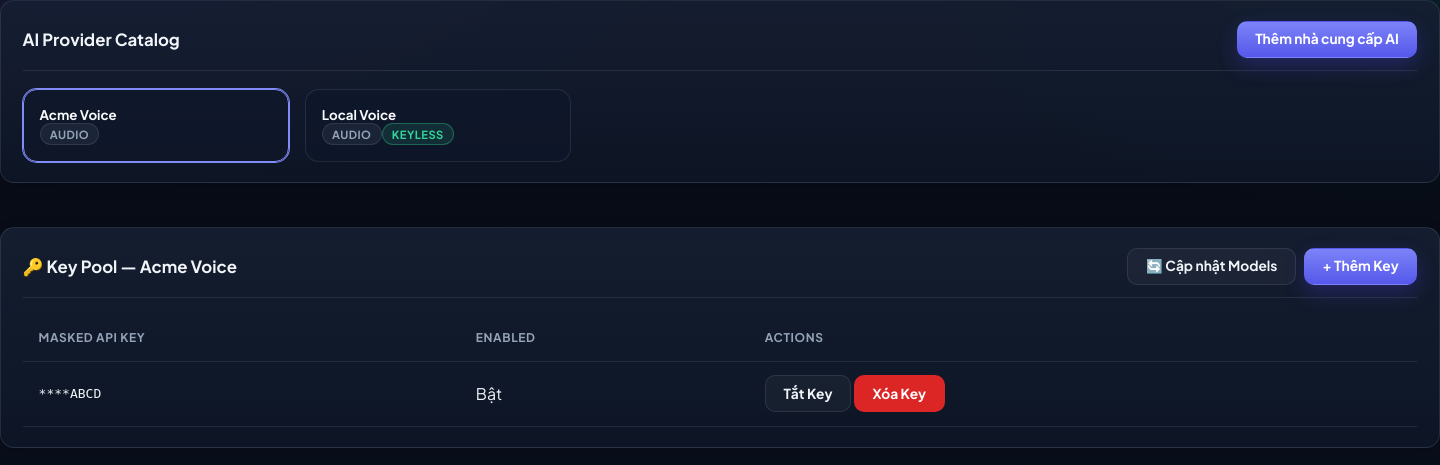
Test case: groups backend providers and shows only selected provider masked keys
This screenshot has width=1440, height=465.
Expected: the button "Acme Voice audio" is shown, [23,89,289,162]
Expected: the text "****ABCD" is shown, [23,361,460,426]
Click the button "Local Voice audio Keyless".
click(438, 125)  # box [305,89,571,162]
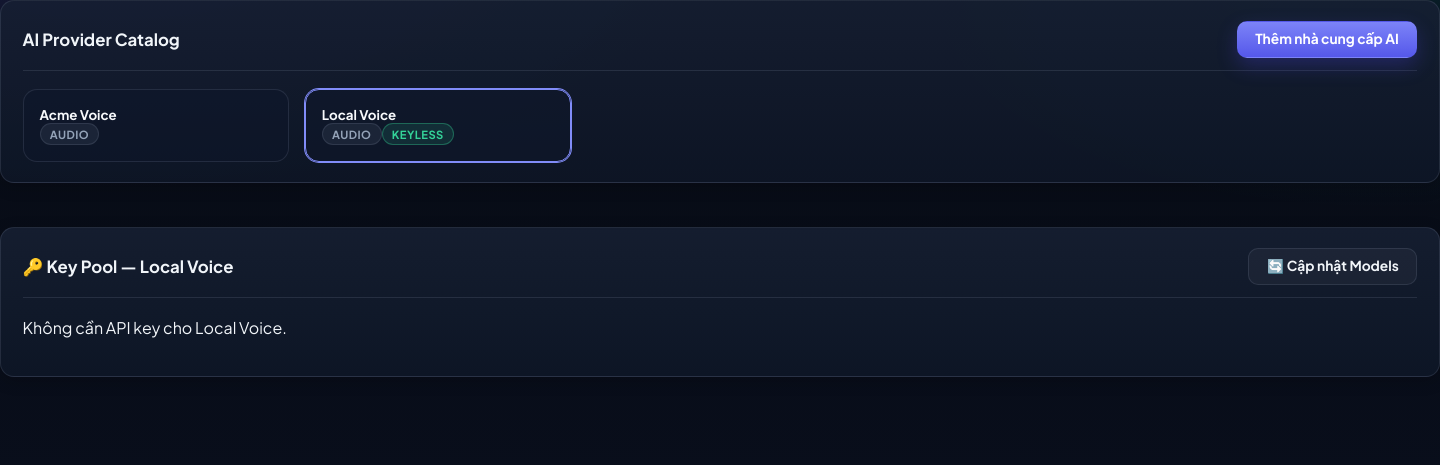
Result: the text "Không cần API key cho Local Voice." is shown at [23,317,287,338]
Result: the text "****ABCD" is gone
Result: the button "Thêm Key" is gone
